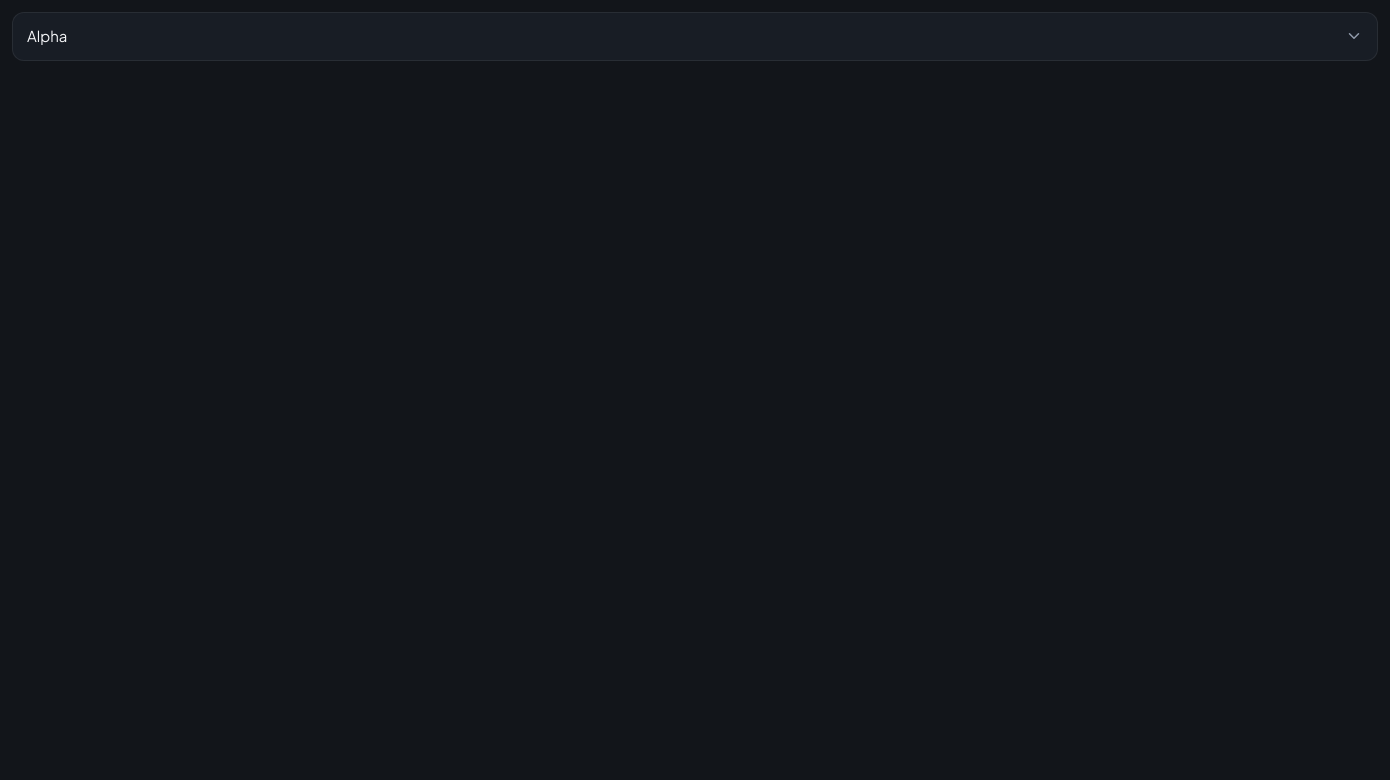
it: Select on a desktop screen (a dropdown under the button) › closes on Escape and on a click outside, without changing the value
Click the dropdown named "Letter": [47, 36] box [12, 12, 1378, 60]
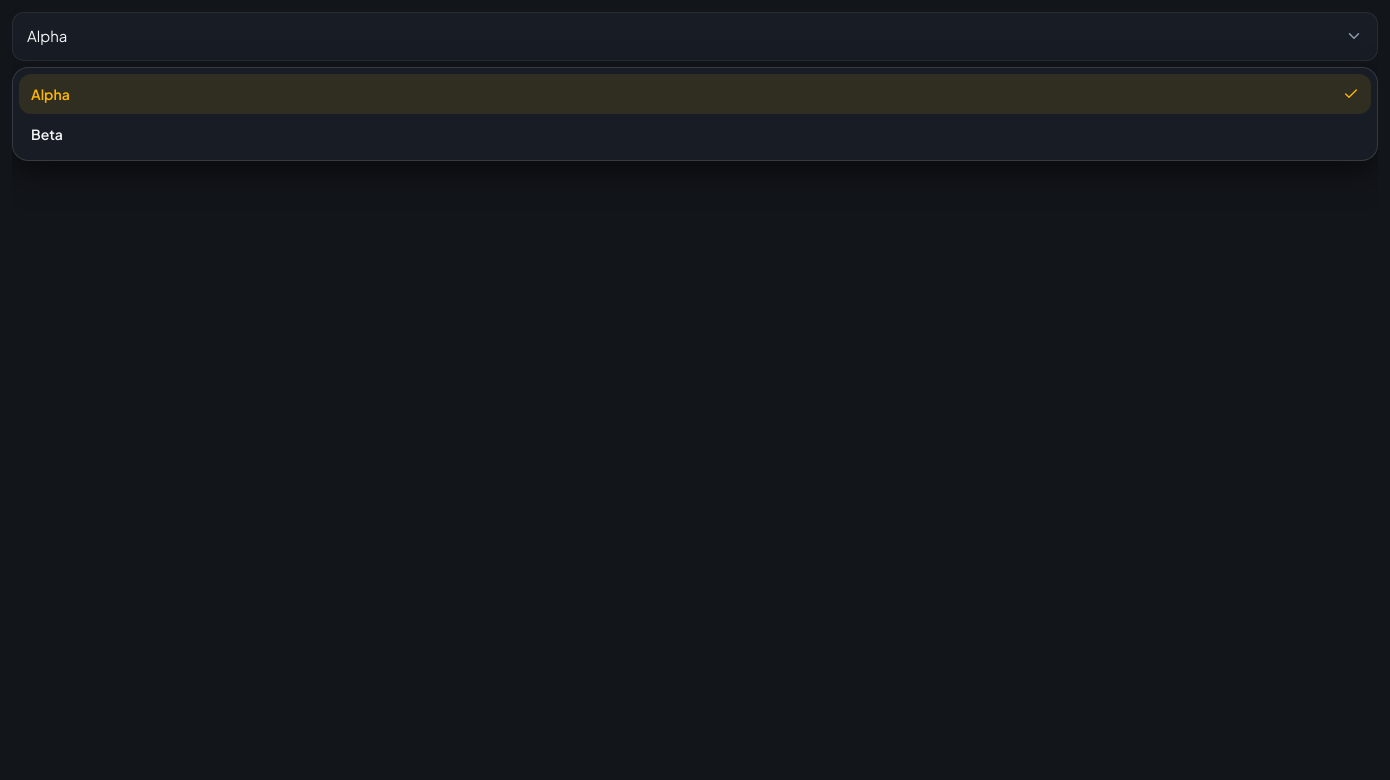
Press Escape
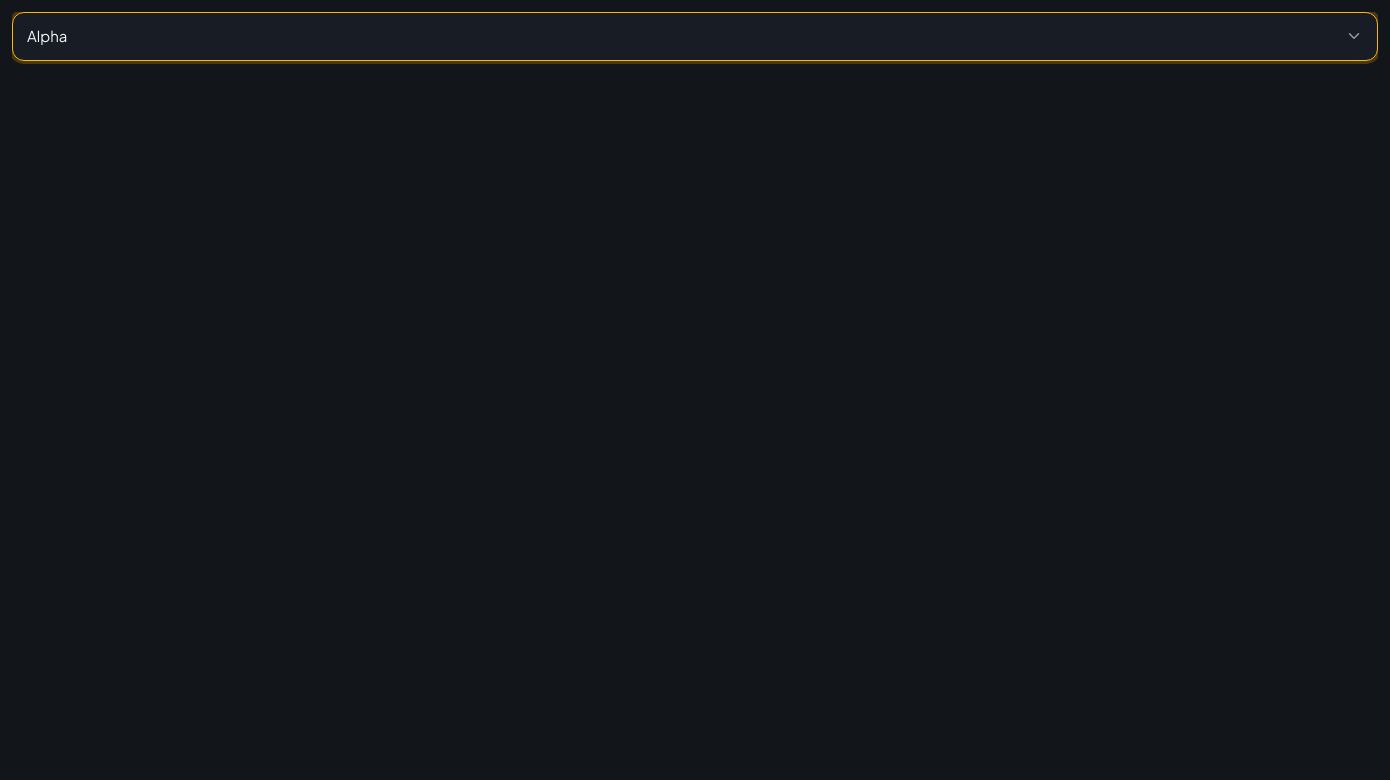
expect the list is gone: met
Click the dropdown named "Letter": [47, 36] box [12, 12, 1378, 60]
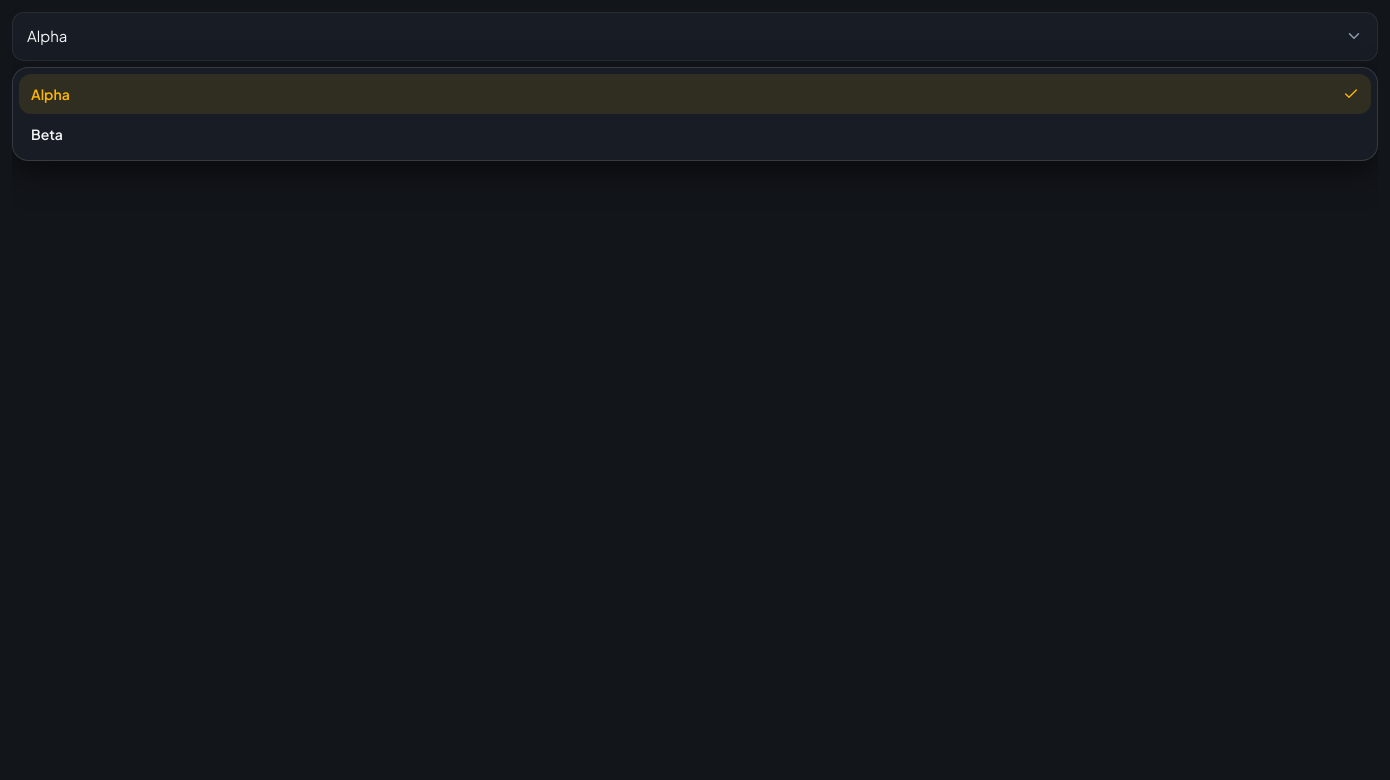
Click the element showing "Alpha Alpha Beta": [695, 396] box [12, 12, 1378, 779]
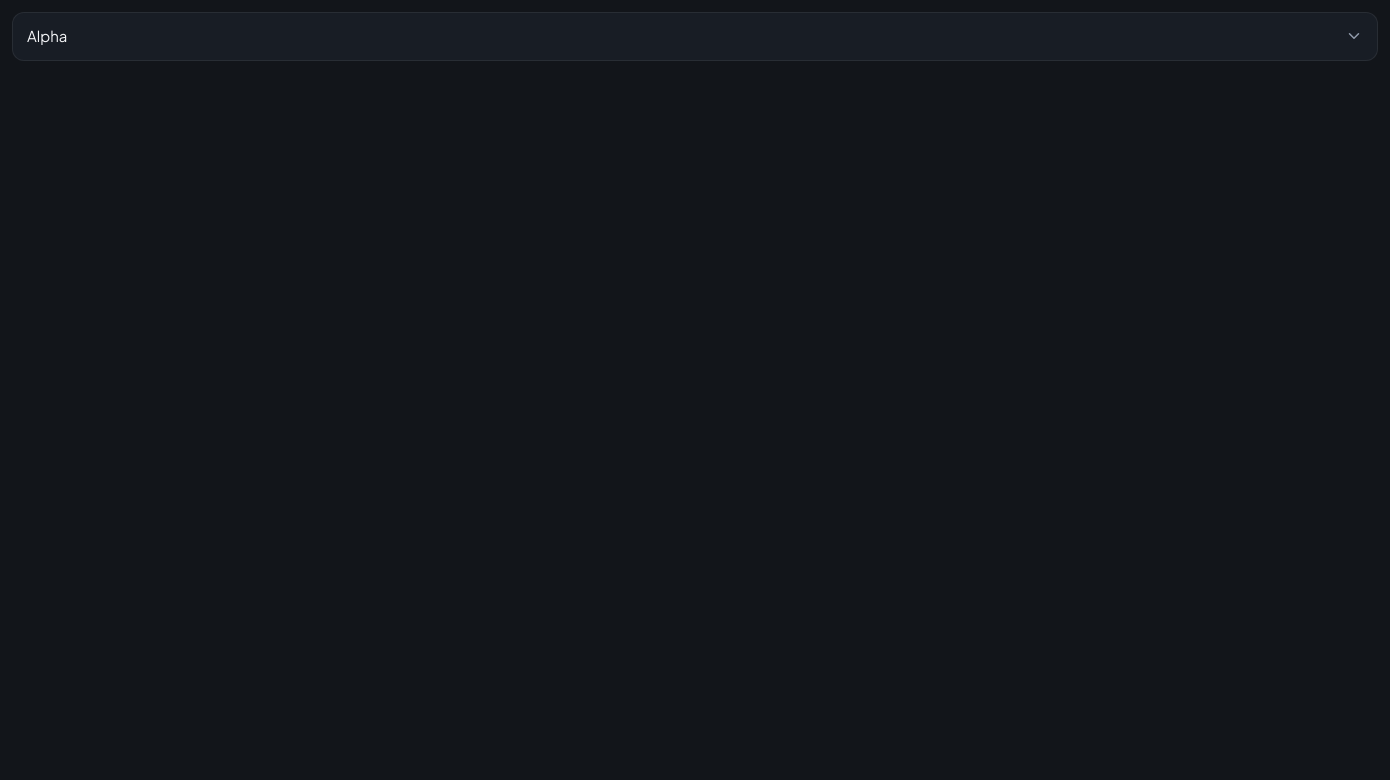
expect the dropdown named "Letter" reads "Alpha": met, box [12, 12, 1378, 60]
expect the list is gone: met
